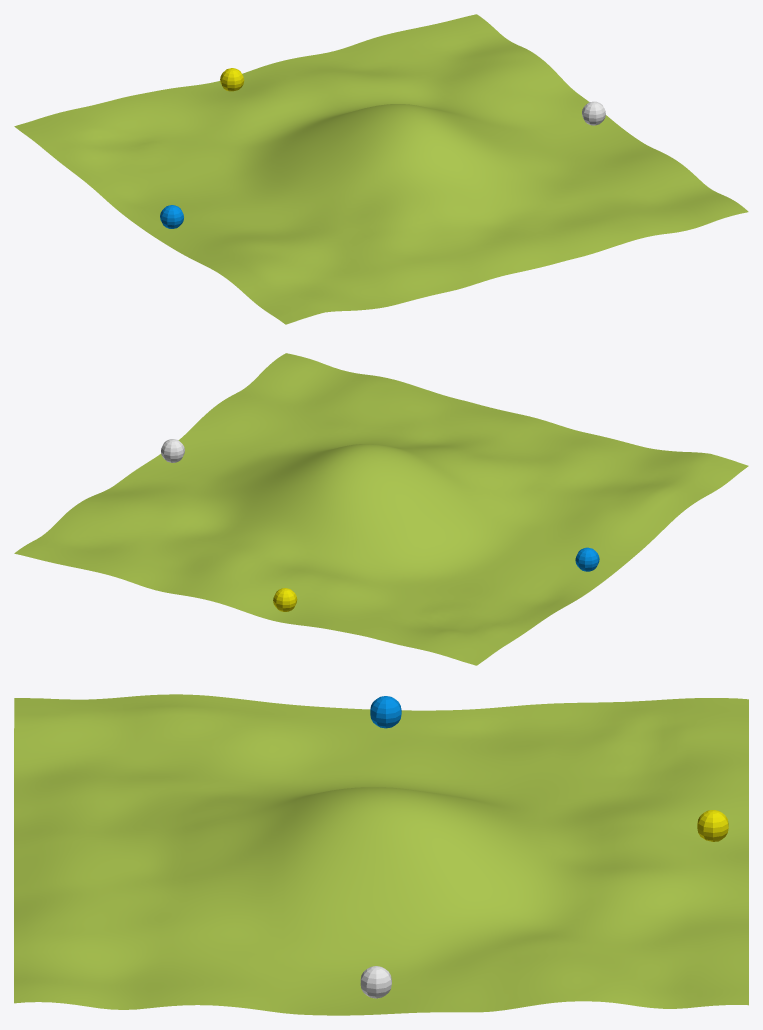
Rendered from marqueurs_bosse_pos4.fbx.
The picture shows the model from 3 angles, top to bottom: view 1: azimuth 30°, elevation 25°; view 2: azimuth 150°, elevation 25°; view 3: azimuth 270°, elevation 25°; orthographic projection. The views are drawn at different scales.
Visible parts, largest first — view 1: bosse_pos4; view 2: bosse_pos4; view 3: bosse_pos4, pSphere41, pSphere39, pSphere40.
Boxes of the visible parts, left/top/right/bottom form: bosse_pos4: left=14, top=14, right=748, bottom=324; bosse_pos4: left=14, top=353, right=748, bottom=665; bosse_pos4: left=14, top=694, right=748, bottom=1015; pSphere41: left=360, top=966, right=391, bottom=998; pSphere39: left=370, top=696, right=401, bottom=728; pSphere40: left=697, top=810, right=728, bottom=841.
Size of the model in its own units: 708 by 89.07 by 720.
